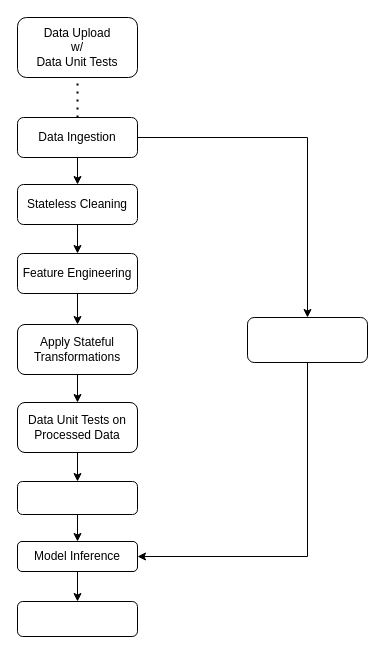
Some shapes in this 385 by 654 pixel diagram are drawn without their labels. Each missing label, with the centre of its shape:
"Data Drift" goes at (77,618).
"Encounter ID Tracking" goes at (307,339).
"Feature Pruning" goes at (77,497).
